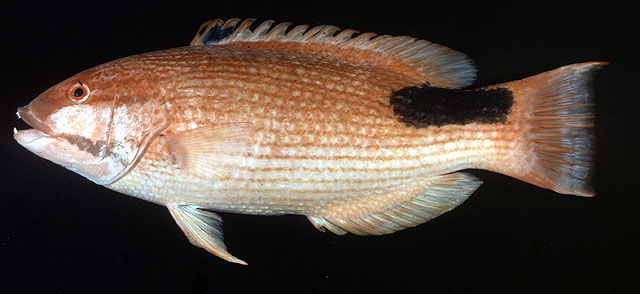fish: (14, 18, 602, 264)
